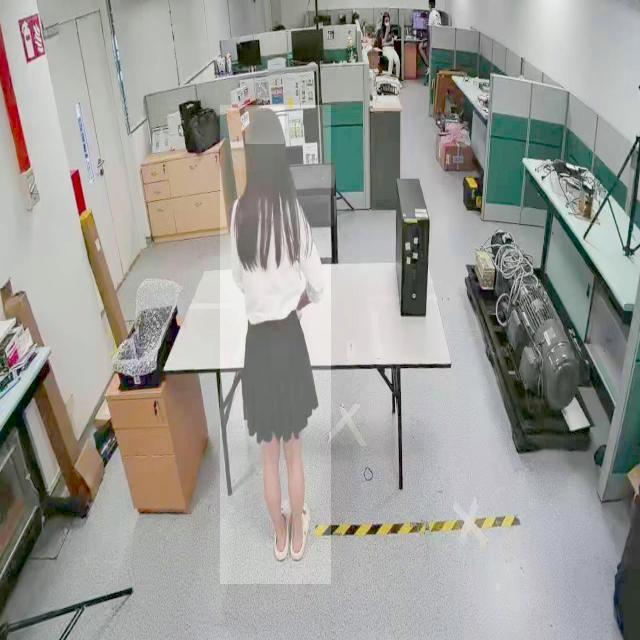head_nohelmet: (245, 107, 285, 145), (382, 10, 388, 17), (428, 0, 436, 3)
person: (220, 105, 332, 585), (378, 9, 406, 83)
